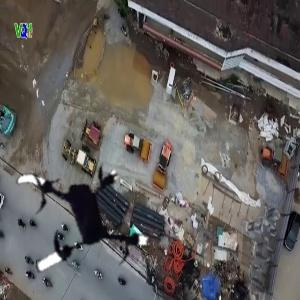drone: (1, 148, 150, 297)
